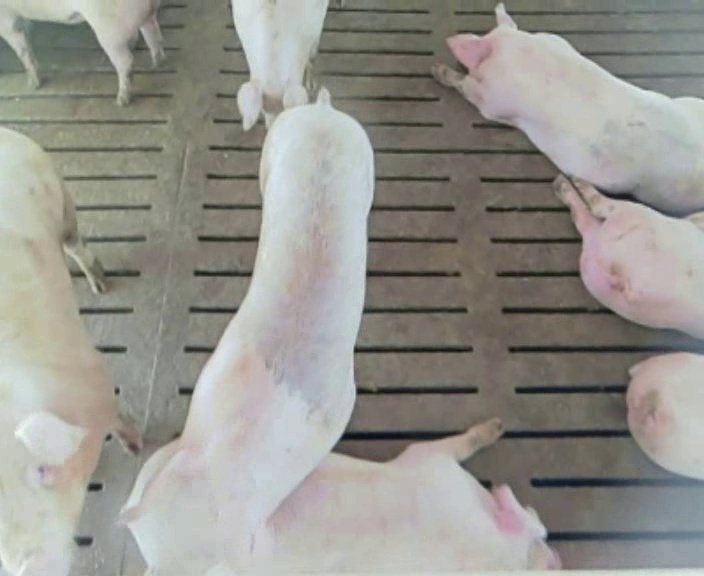pig: (122, 91, 372, 573), (433, 4, 703, 214), (554, 175, 703, 338), (232, 2, 326, 129), (626, 353, 703, 479)
